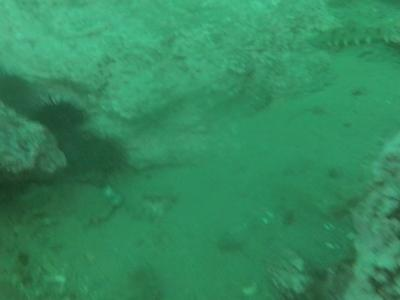holothurian: (310, 26, 385, 50)
urchin: (35, 94, 86, 134), (1, 75, 39, 117)
